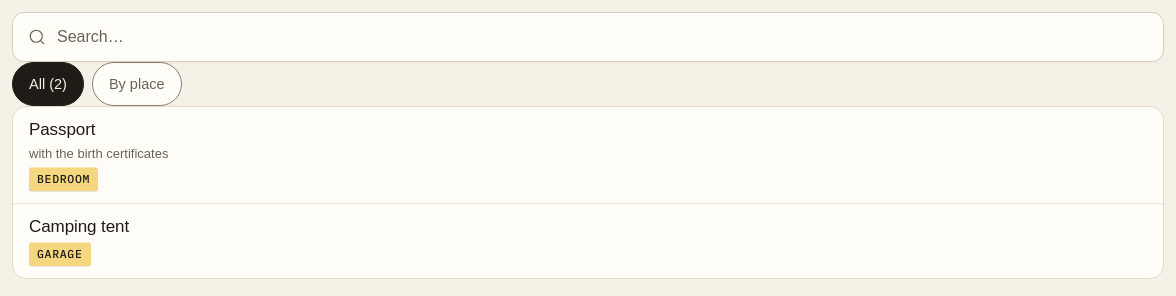
Test: a query matching nothing shows the no-matches empty state
Type "nonexistent" into the search field named "Search your stuff" at (588, 37), box [12,12,1164,62]
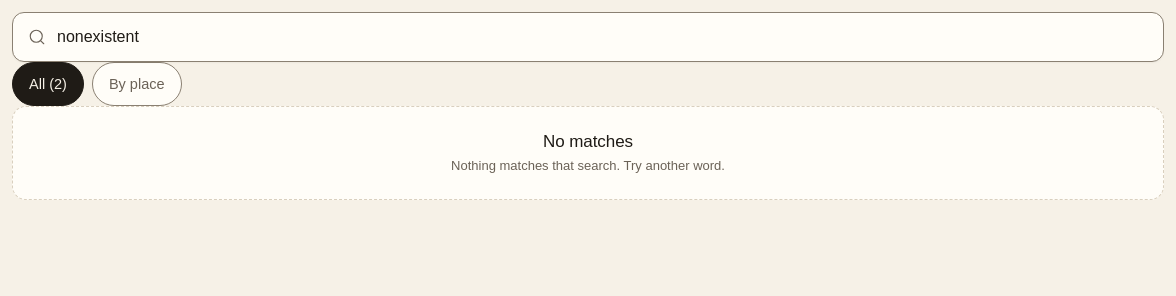
Check: the text "No matches" is shown, box [543,132,633,151]
Check: the link "Passport" is gone
Check: the link "Camping tent" is gone
